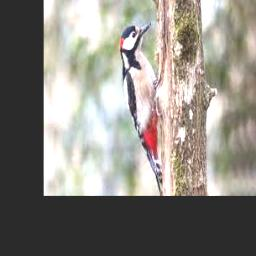Woodpecker: (120, 21, 163, 196)
